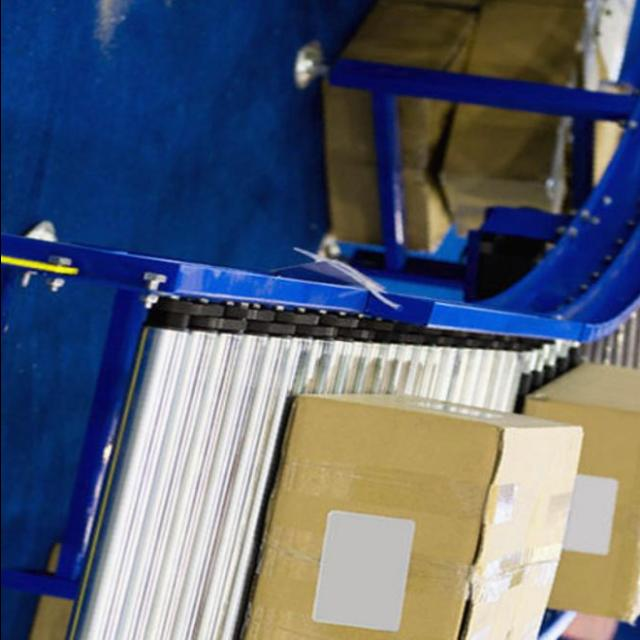food: (230, 390, 586, 640), (517, 358, 640, 628)
